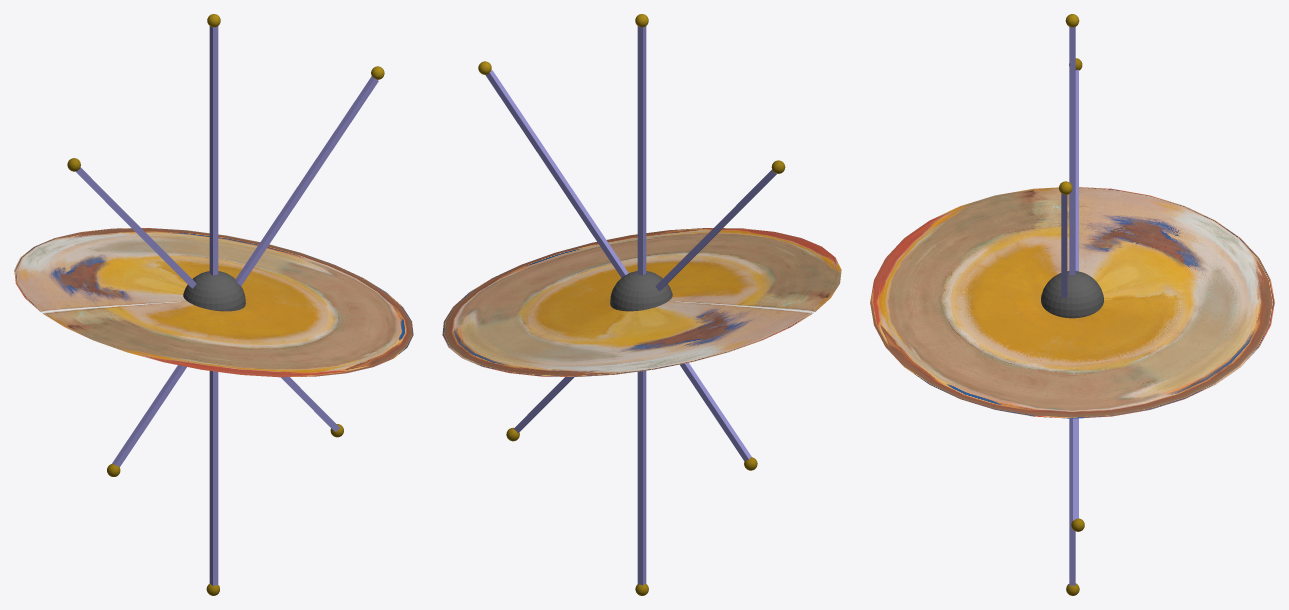
The model's file is satellite9.glb.
3 renders of one model, left to right at view 1: azimuth 30°, elevation 25°; view 2: azimuth 150°, elevation 25°; view 3: azimuth 270°, elevation 25°, orthographic.
Parts seen in each view (by area): view 1: Sphere, Cube.001, Cube.002, Sphere.001, Cube; view 2: Sphere, Cube.001, Cube.002, Sphere.001, Cube; view 3: Sphere, Cube.001, Sphere.001, Cube, Cube.002.
Part boxes in pixels (x1,y1,x2,y2): Sphere: (14,228,413,377); Cube.001: (209,26,218,585); Cube.002: (112,76,378,467); Sphere.001: (183,271,245,311); Cube: (75,167,339,431); Sphere: (442,228,841,376); Cube.001: (637,26,646,585); Cube.002: (485,70,751,461); Sphere.001: (610,271,672,311); Cube: (514,169,776,432); Sphere: (870,187,1274,418); Cube.001: (1069,27,1075,586); Sphere.001: (1041,271,1103,318); Cube: (1073,69,1078,520); Cube.002: (1061,193,1067,297).
Bounding box in the file's own units: 1.28 × 2.06 × 1.3.
Materials: 11 (1 with a texture image).
